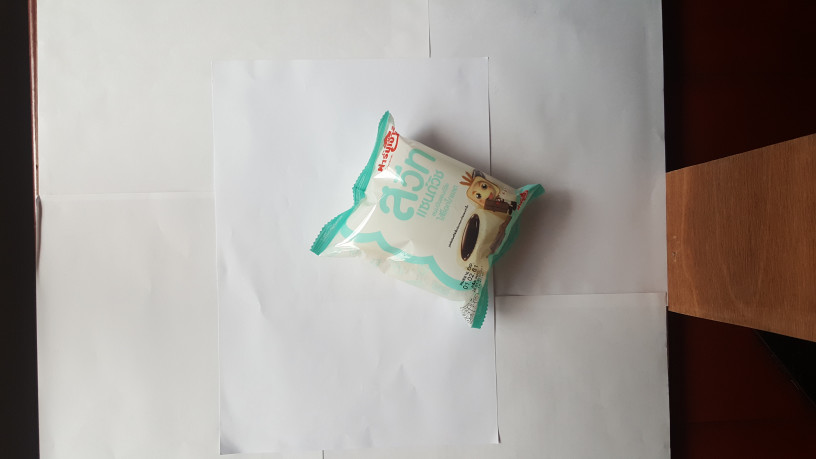farmhouse-sweetsandwich-chocolate: (307, 109, 546, 331)
